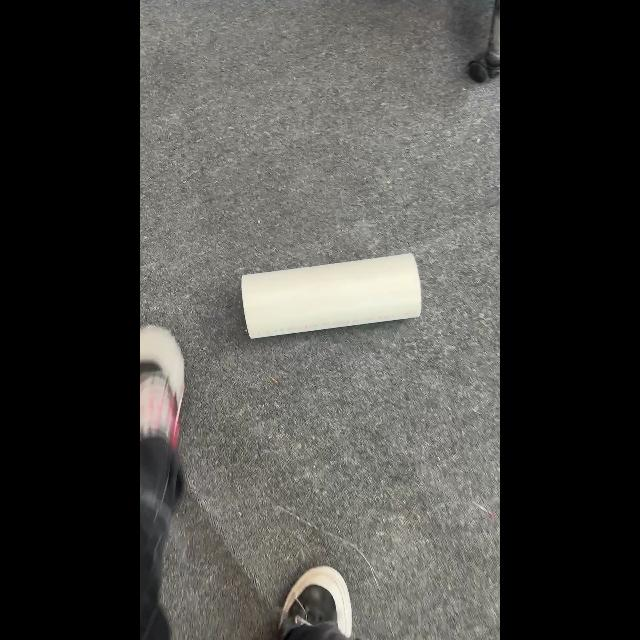CORAL: (240, 252, 422, 340)
